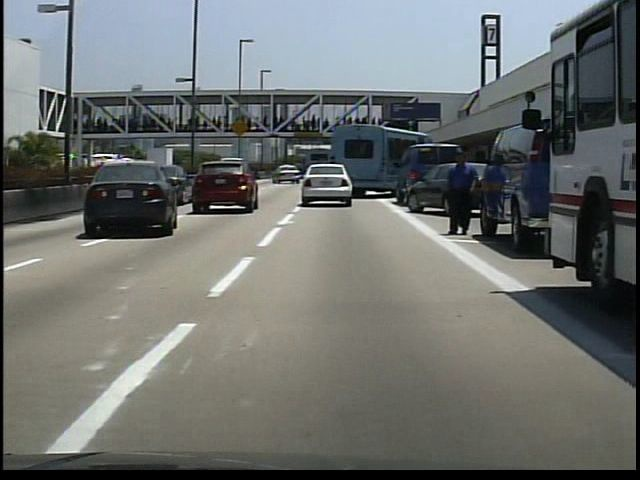person: (440, 149, 487, 242)
